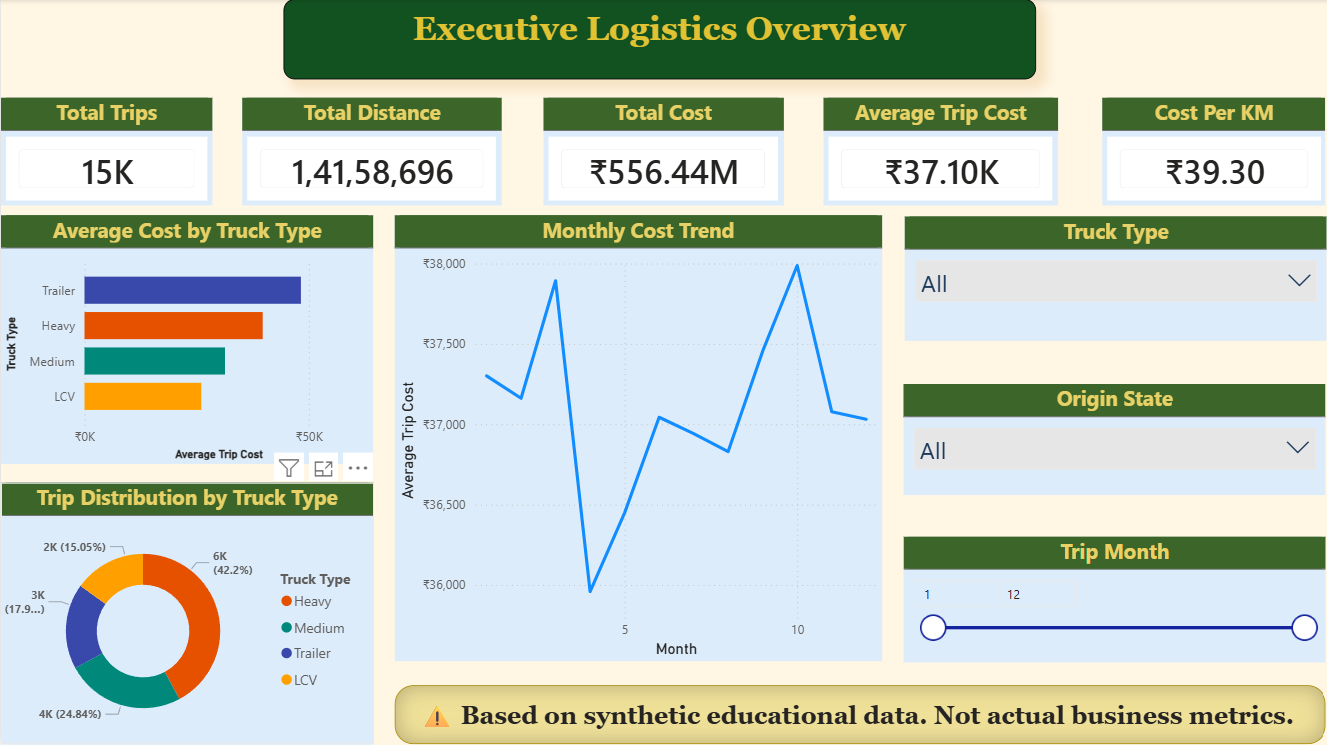

Layout of this report page (visuals, bound fields, positions):
{"tool":"powerbi","page":{"name":"Executive Logistics Overview","canvas":[1280,720],"ordinal":0},"visuals":[{"type":"cardVisual","title":"Total Trips","fields":{"Data":["_Measures.Total Trips"]},"box":[0,95.1,204,103.7],"z":0},{"type":"cardVisual","title":"Total Distance","fields":{"Data":["_Measures.Total Distance"]},"box":[233.4,95.1,250.7,103.7],"z":1000},{"type":"cardVisual","title":"Total Cost","fields":{"Data":["_Measures.Total Cost"]},"box":[523.8,95.1,231.7,103.7],"z":2000},{"type":"cardVisual","title":"Average Trip Cost","fields":{"Data":["_Measures.Average Trip Cost"]},"box":[793.5,95.1,226.5,103.7],"z":3000},{"type":"cardVisual","title":"Cost Per KM","fields":{"Data":["_Measures.Cost per KM"]},"box":[1063.2,95.1,216.1,103.7],"z":4000},{"type":"textbox","box":[273.2,0,726.1,77.8],"z":5000},{"type":"clusteredBarChart","title":"Average Cost by Truck Type","fields":{"Y":["_Measures.Average Trip Cost"],"Category":["indian_logistics_db dim_truck_type.truck_type"]},"box":[0,209.2,359.6,240.3],"z":6000},{"type":"donutChart","title":"Trip Distribution by Truck Type","fields":{"Category":["indian_logistics_db dim_truck_type.truck_type"],"Y":["_Measures.Total Trips"]},"box":[0,466.8,359.6,252.4],"z":7000},{"type":"lineChart","title":"Monthly Cost Trend","fields":{"Category":["indian_logistics_db fact_trip_cost.trip_month"],"Y":["_Measures.Average Trip Cost"]},"box":[380.3,209.2,470.2,430.5],"z":8000},{"type":"slicer","title":"Truck Type","fields":{"Values":["indian_logistics_db dim_truck_type.truck_type"]},"box":[871.7,210,408.3,120],"z":9000},{"type":"slicer","title":"Origin State","fields":{"Values":["indian_logistics_db dim_route.origin_state"]},"box":[871.3,371.7,408,107.2],"z":10000},{"type":"slicer","title":"Trip Month","fields":{"Values":["indian_logistics_db fact_trip_cost.trip_month"]},"box":[871.3,518.6,408,121],"z":11000},{"type":"textbox","box":[380.3,662.1,899,57.1],"z":13000}]}

Visuals, with their boxes in screenshot pixels (x1, y1, x2, y2), scaled from the page's 1280x720 canvas onto the 1327x745 screenshot:
"Total Trips" cardVisual: bbox(0, 98, 211, 206)
"Total Distance" cardVisual: bbox(242, 98, 502, 206)
"Total Cost" cardVisual: bbox(543, 98, 783, 206)
"Average Trip Cost" cardVisual: bbox(823, 98, 1057, 206)
"Cost Per KM" cardVisual: bbox(1102, 98, 1326, 206)
textbox: bbox(283, 0, 1036, 81)
"Average Cost by Truck Type" clusteredBarChart: bbox(0, 216, 373, 465)
"Trip Distribution by Truck Type" donutChart: bbox(0, 483, 373, 744)
"Monthly Cost Trend" lineChart: bbox(394, 216, 882, 662)
"Truck Type" slicer: bbox(904, 217, 1326, 341)
"Origin State" slicer: bbox(903, 385, 1326, 496)
"Trip Month" slicer: bbox(903, 537, 1326, 662)
textbox: bbox(394, 685, 1326, 744)
